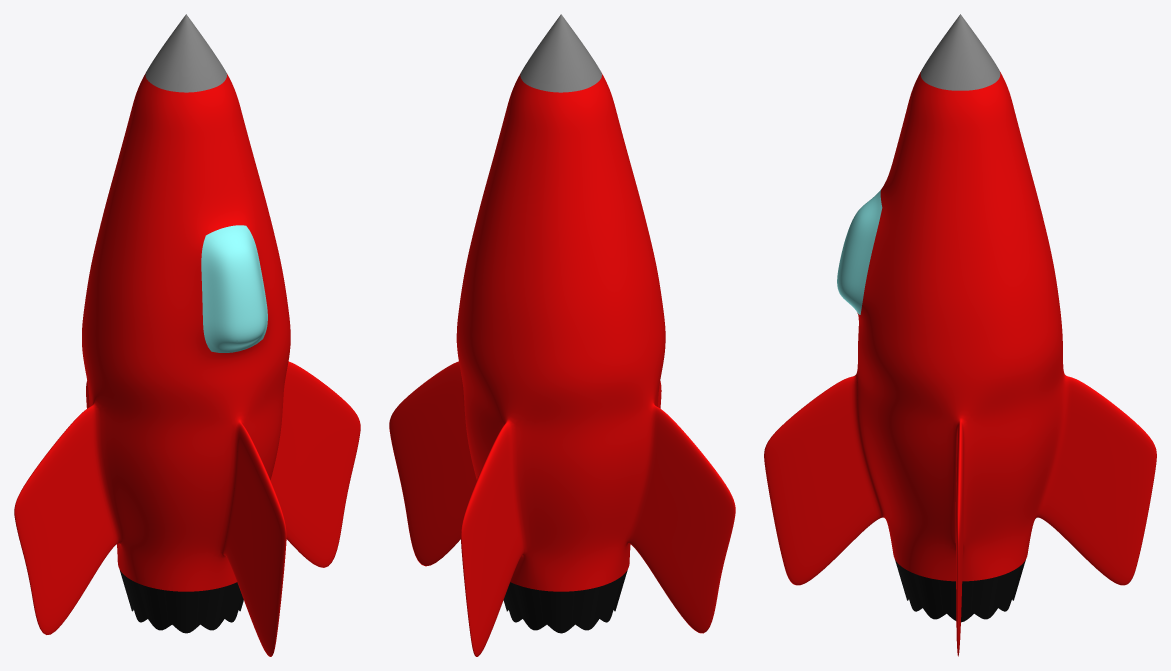
File: red_rocket.obj
3 renders of one model, left to right at view 1: azimuth 30°, elevation 25°; view 2: azimuth 150°, elevation 25°; view 3: azimuth 270°, elevation 25°, orthographic.
Visible parts, largest first — view 1: red_rocket:pCube1polySurface3polySurface1, red_rocket:polySurface2pCube1, red_rocket:pCylinder1, red_rocket:pCube1polySurface1polySurface4; view 2: red_rocket:pCube1polySurface3polySurface1, red_rocket:pCylinder1, red_rocket:pCube1polySurface1polySurface4; view 3: red_rocket:pCube1polySurface3polySurface1, red_rocket:pCylinder1, red_rocket:pCube1polySurface1polySurface4, red_rocket:polySurface2pCube1.
Boxes of the visible parts, <box> form: red_rocket:pCube1polySurface3polySurface1: <box>14,73,360,656</box>; red_rocket:polySurface2pCube1: <box>201,225,267,352</box>; red_rocket:pCylinder1: <box>119,569,243,633</box>; red_rocket:pCube1polySurface1polySurface4: <box>145,14,226,92</box>; red_rocket:pCube1polySurface3polySurface1: <box>389,73,735,656</box>; red_rocket:pCylinder1: <box>503,570,627,633</box>; red_rocket:pCube1polySurface1polySurface4: <box>520,14,601,92</box>; red_rocket:pCube1polySurface3polySurface1: <box>764,72,1156,656</box>; red_rocket:pCylinder1: <box>895,560,1025,622</box>; red_rocket:pCube1polySurface1polySurface4: <box>920,14,1000,90</box>; red_rocket:polySurface2pCube1: <box>837,190,882,314</box>.
Size of the model in its own units: 6.02 by 9.91 by 6.02.
